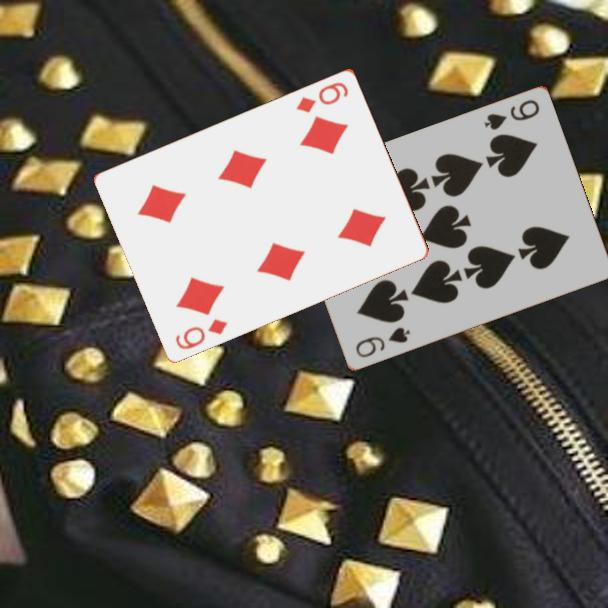d06: (172, 315, 231, 352), (293, 78, 351, 115)
s09: (480, 96, 542, 133), (352, 324, 413, 361)
